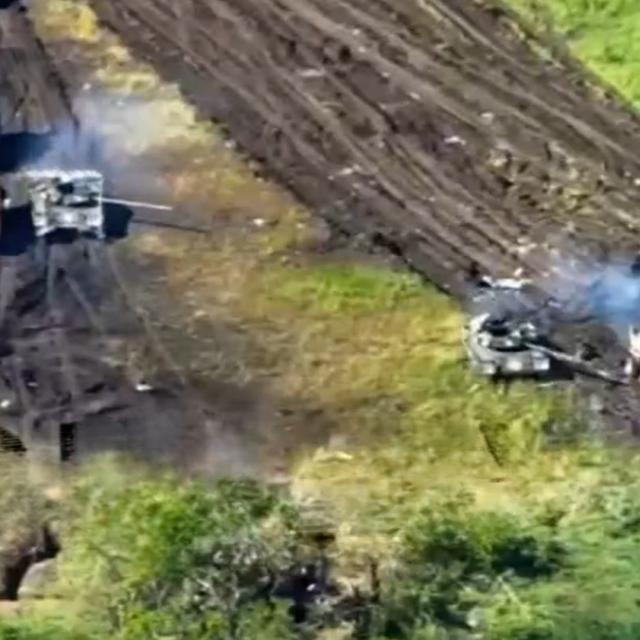MBT: (30, 167, 172, 246), (462, 307, 587, 384)
